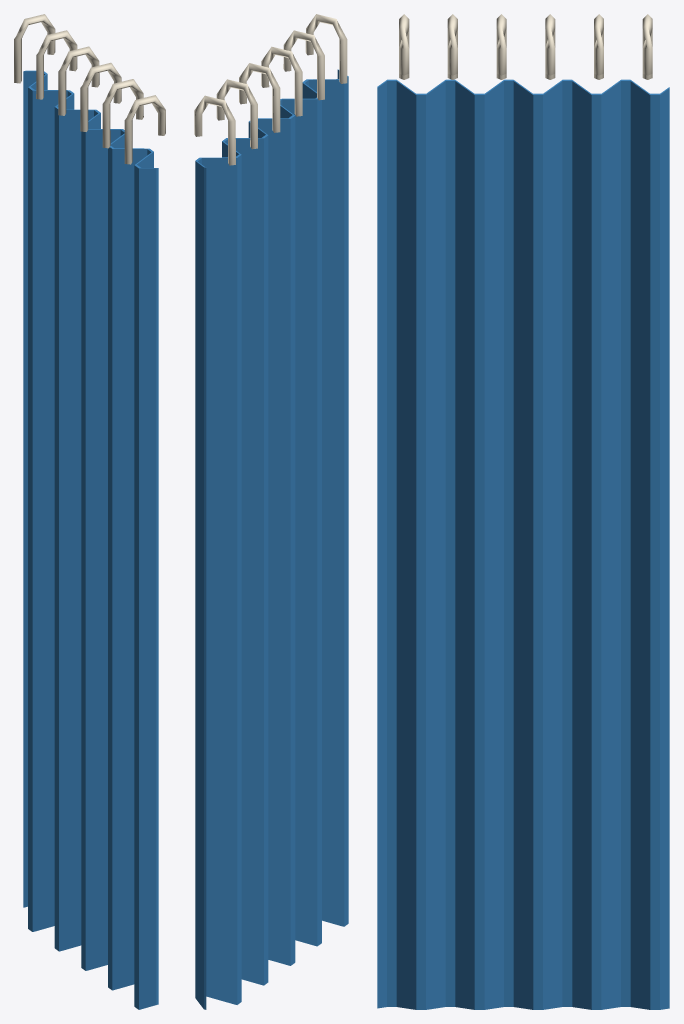
Rendered from Recovery_Curtain_Open_Left.glb.
3 views of the same model, side by side, from view 1: azimuth 30°, elevation 25°; view 2: azimuth 150°, elevation 25°; view 3: azimuth 270°, elevation 25° (orthographic). The views are drawn at different scales.
Visible parts, largest first — view 1: Recovery_Curtain_Open_Left__Visual; view 2: Recovery_Curtain_Open_Left__Visual; view 3: Recovery_Curtain_Open_Left__Visual.
Part boxes in pixels (x1,y1,x2,y2): Recovery_Curtain_Open_Left__Visual: (14,14,165,1009); Recovery_Curtain_Open_Left__Visual: (194,14,348,1009); Recovery_Curtain_Open_Left__Visual: (377,14,669,1009).
Size of the model in its own units: 0.104 by 2.18 by 0.58.
1 material, 1 textured.
